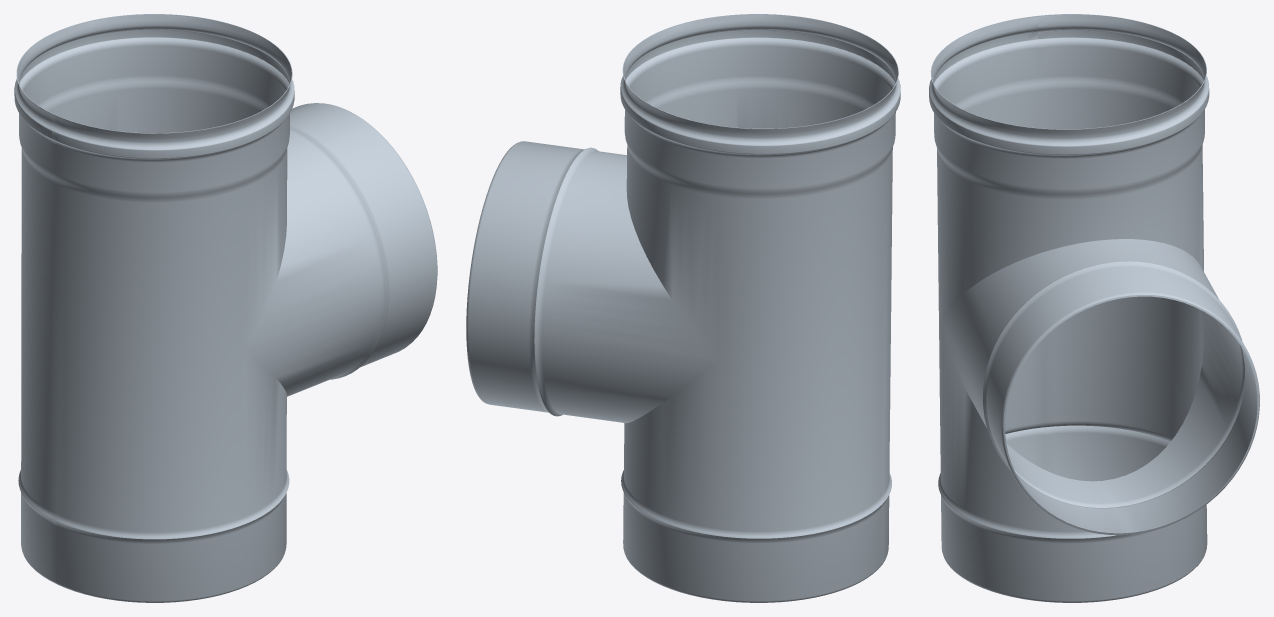
File: tee.glb
The picture shows the model from 3 angles, left to right: view 1: azimuth 30°, elevation 25°; view 2: azimuth 150°, elevation 25°; view 3: azimuth 270°, elevation 25°; orthographic projection.
Visible parts, largest first — view 1: 200_Тройник_90; view 2: 200_Тройник_90; view 3: 200_Тройник_90.
Boxes of the visible parts, x1,y1,x2,y2 form: 200_Тройник_90: [14, 14, 437, 602]; 200_Тройник_90: [466, 14, 900, 602]; 200_Тройник_90: [929, 14, 1259, 602].
Bounding box in the file's own units: 0.5056 × 0.6218 × 0.3898.
